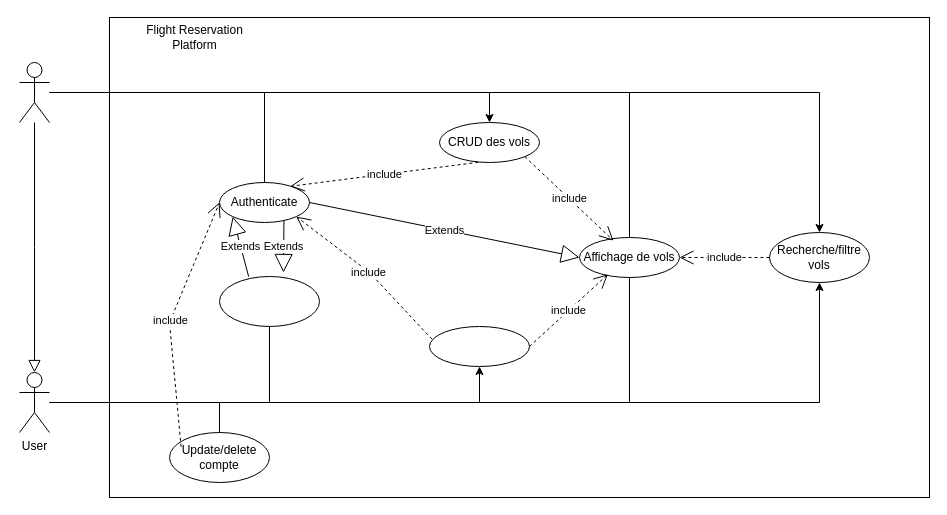
Some shapes in this 947 by 515 pixel diagram are drawn without their labels. The centre of each missing label's shape, as x and y in pixels:
"Admin" goes at (34,92).
"CRUD des réservations" goes at (479,346).
"Inscrire/Creation compte" goes at (269,301).
